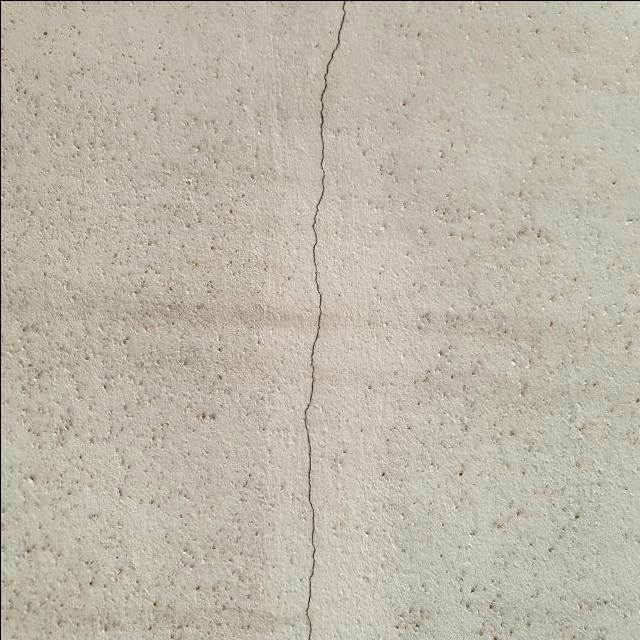SurfaceCrack: (259, 1, 382, 639)
